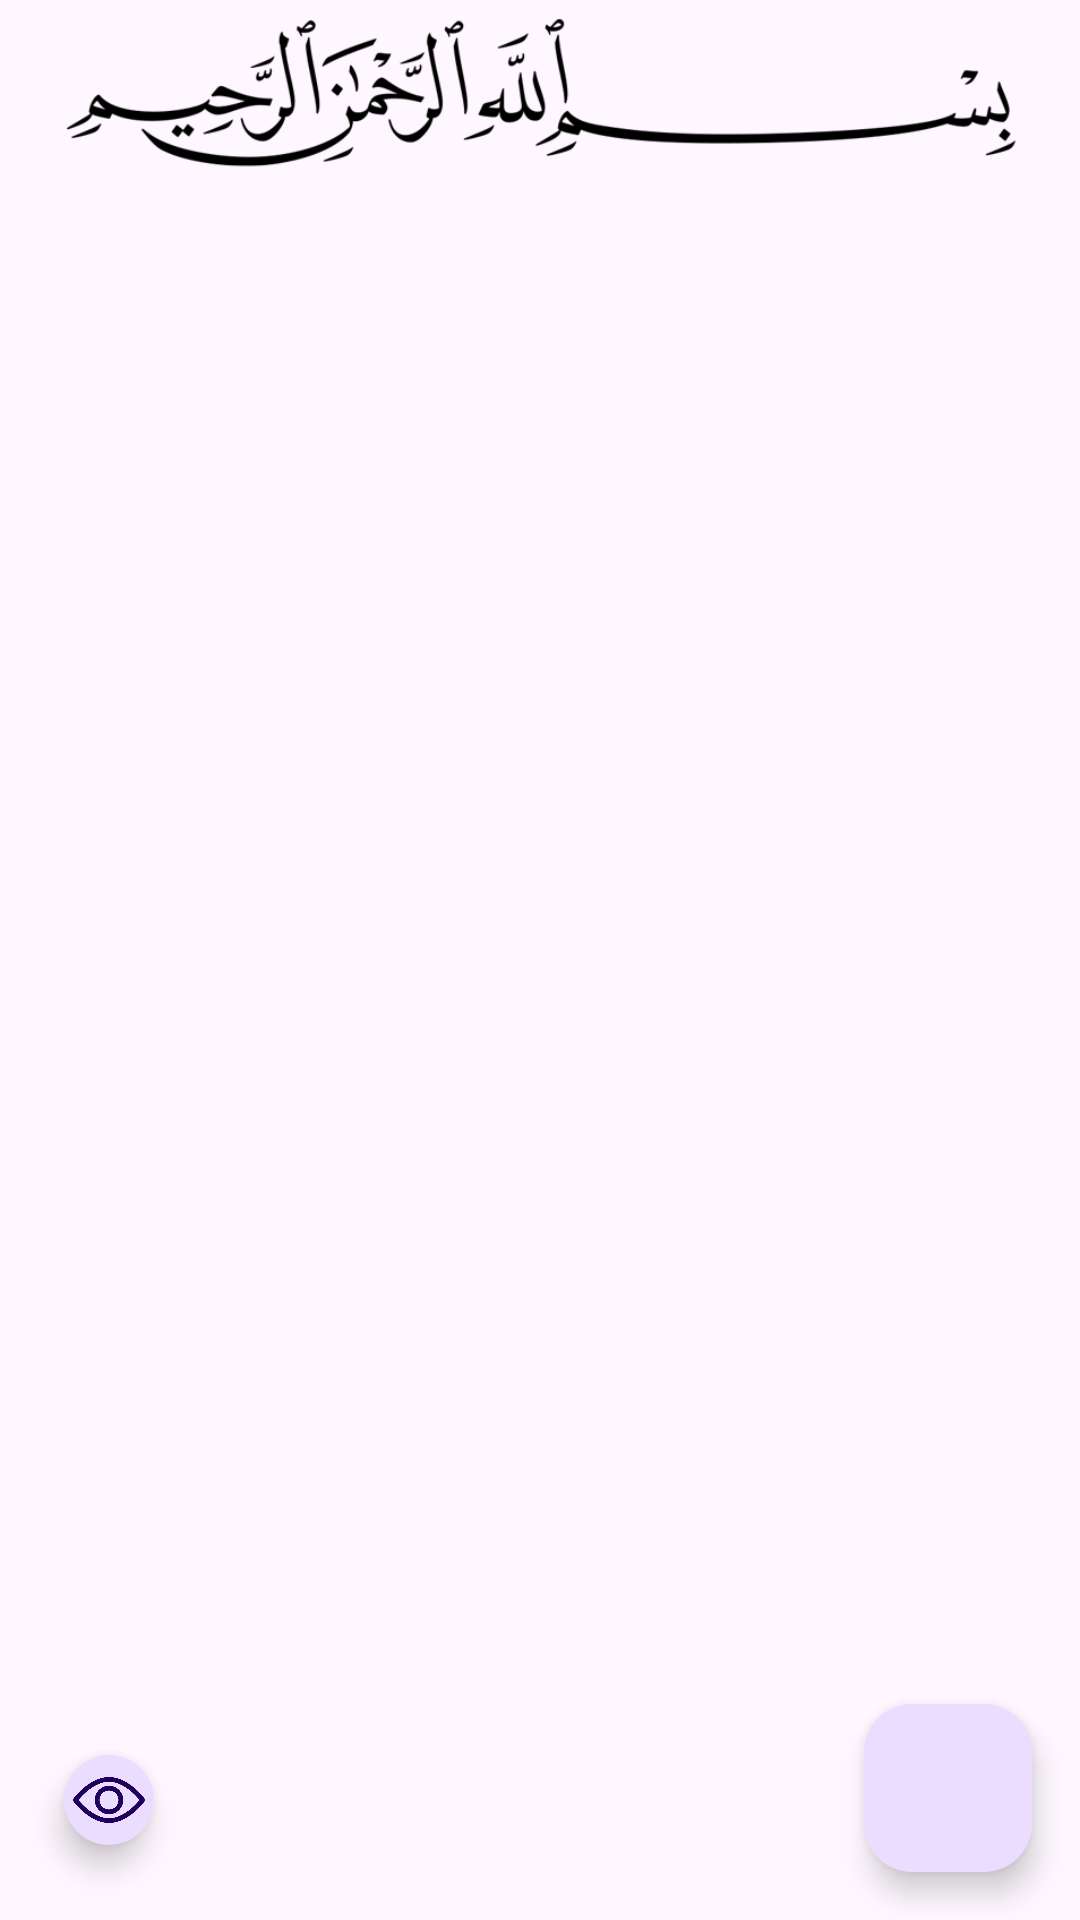

Point at icon controls on the screen. Image size 1080×1920, points as (x,y).
view: (108,1808)
